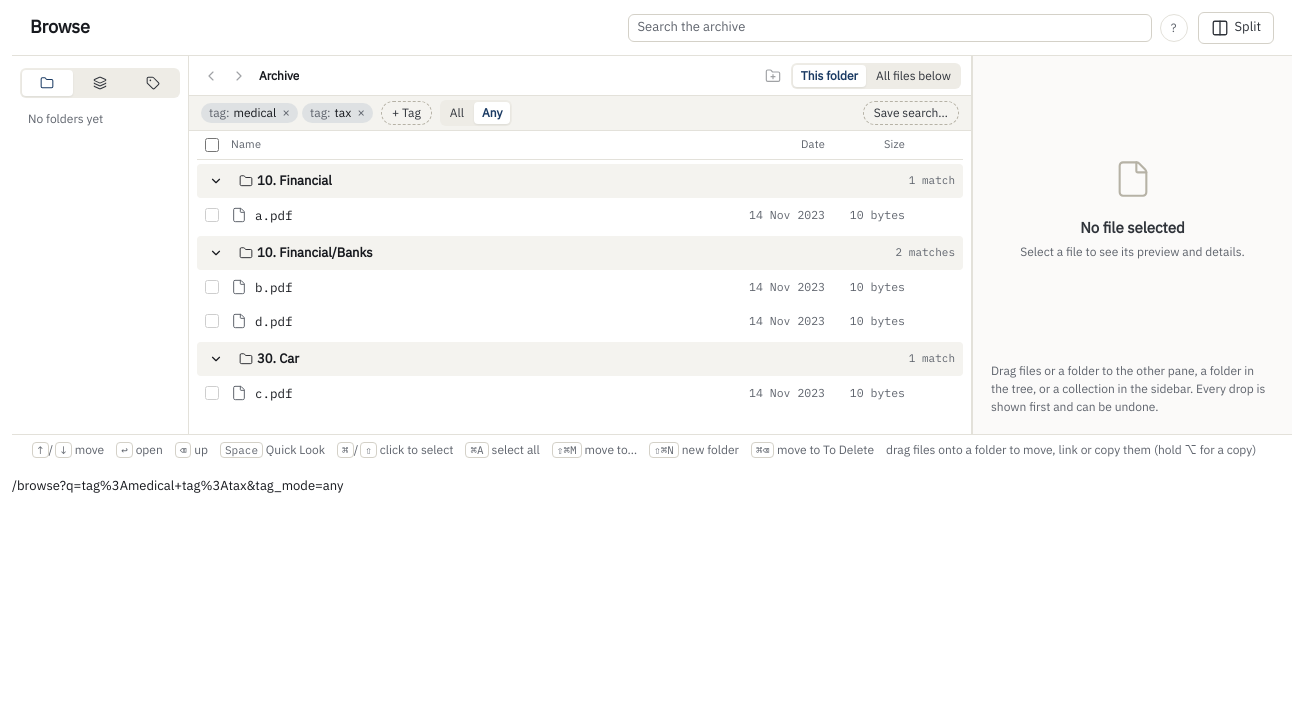
it: All / Any › the address sets Any; dropping to one tag drops the parameter
The width and height of the screenshot is (1292, 720).
Expected: the list named "Search results" is shown, [189,164,971,410]
Click the button named "Remove filter tag:tax" at (361, 113), box [353,106,369,120]
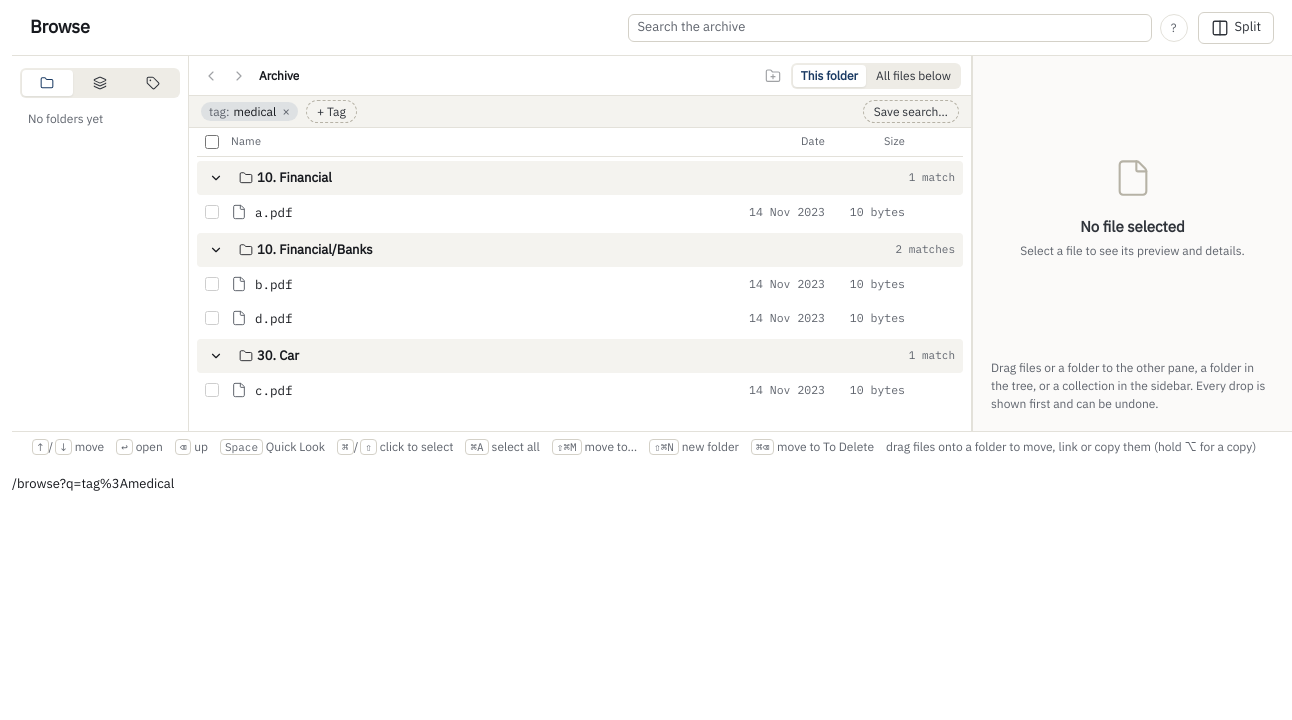
Now the text with test id "where" reads "/browse?q=tag%3Amedical", box [12,475,174,492]
